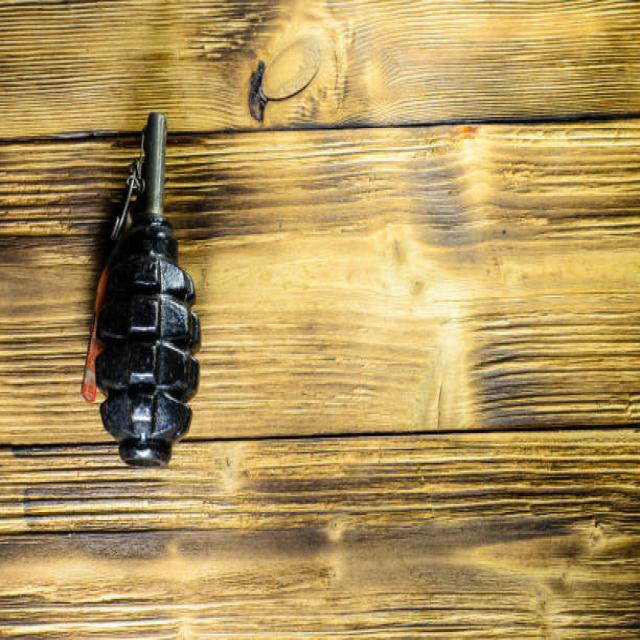grenade: (80, 111, 209, 476)
